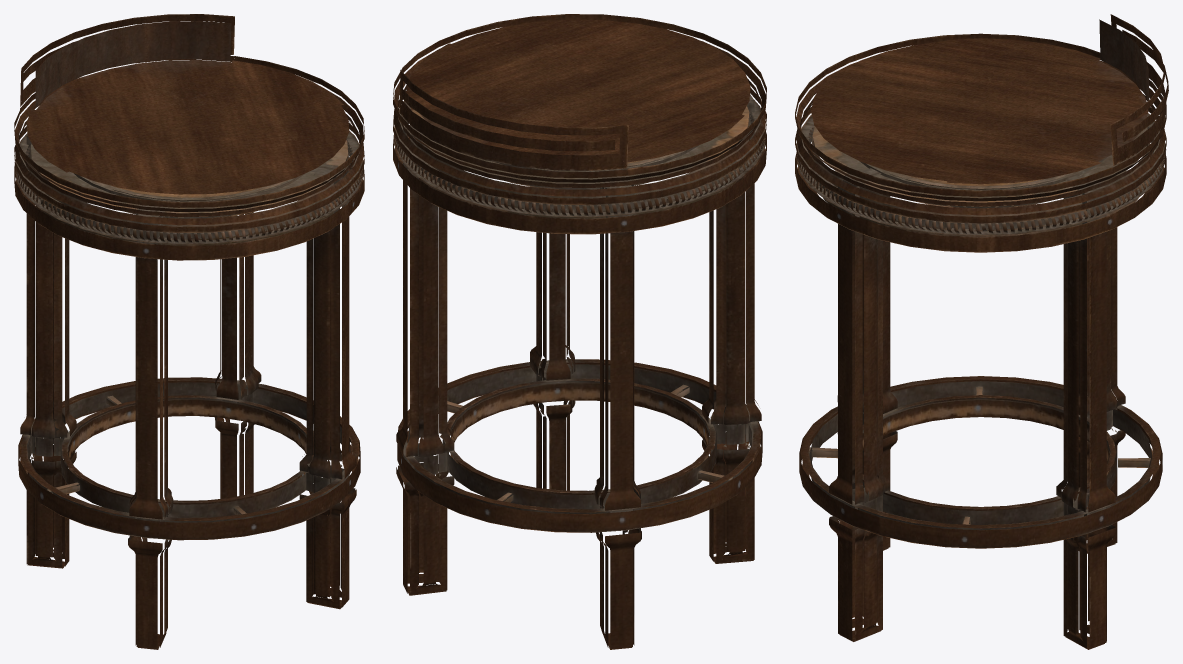
Rendered from bar_chair_round_01.glb.
The picture shows the model from 3 angles, left to right: view 1: azimuth 30°, elevation 25°; view 2: azimuth 150°, elevation 25°; view 3: azimuth 270°, elevation 25°; orthographic projection. The views are drawn at different scales.
Visible parts, largest first — view 1: bar_chair_round_01; view 2: bar_chair_round_01; view 3: bar_chair_round_01.
Boxes of the visible parts, x1,y1,x2,y2 form: bar_chair_round_01: (14, 14, 364, 649); bar_chair_round_01: (393, 14, 766, 649); bar_chair_round_01: (795, 14, 1168, 649).
Bounding box in the file's own units: 0.5014 × 0.7777 × 0.5043.
Materials: 1 (1 with a texture image).
